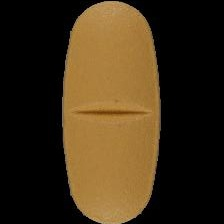63629-4987: (0, 0, 224, 224)
